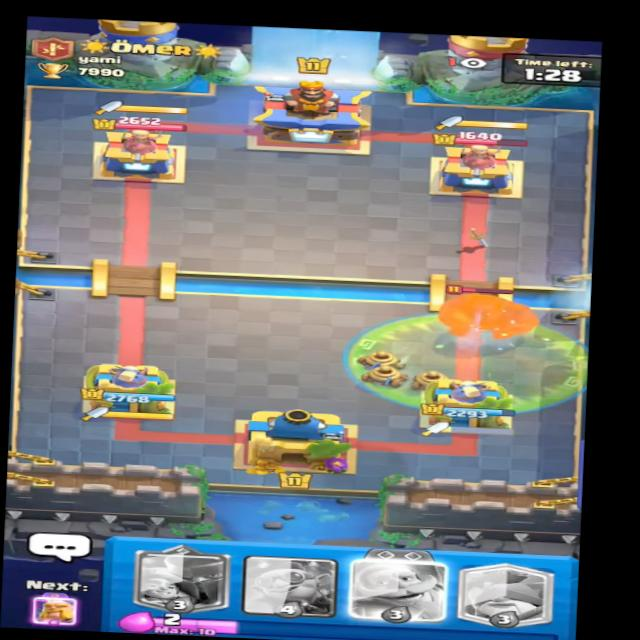royal-giant: (433, 284, 549, 345)
